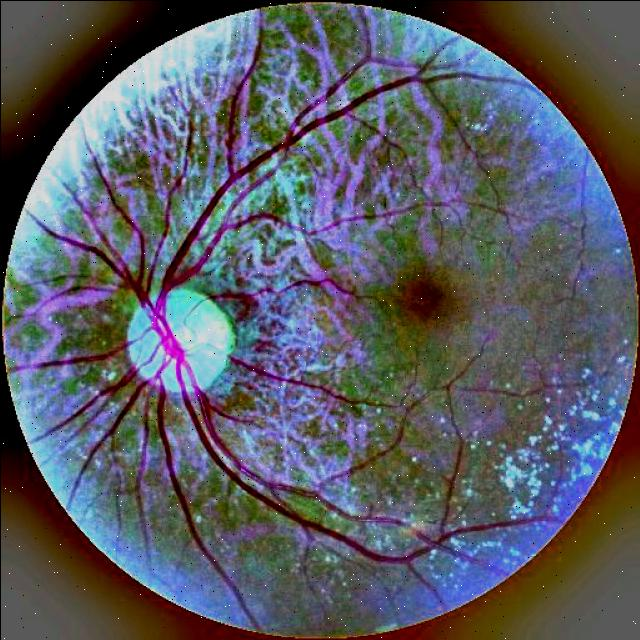Macula: (386, 271, 452, 324)
Nerves: (132, 132, 299, 484), (158, 391, 199, 544)
Optic Disk: (128, 285, 235, 394)
